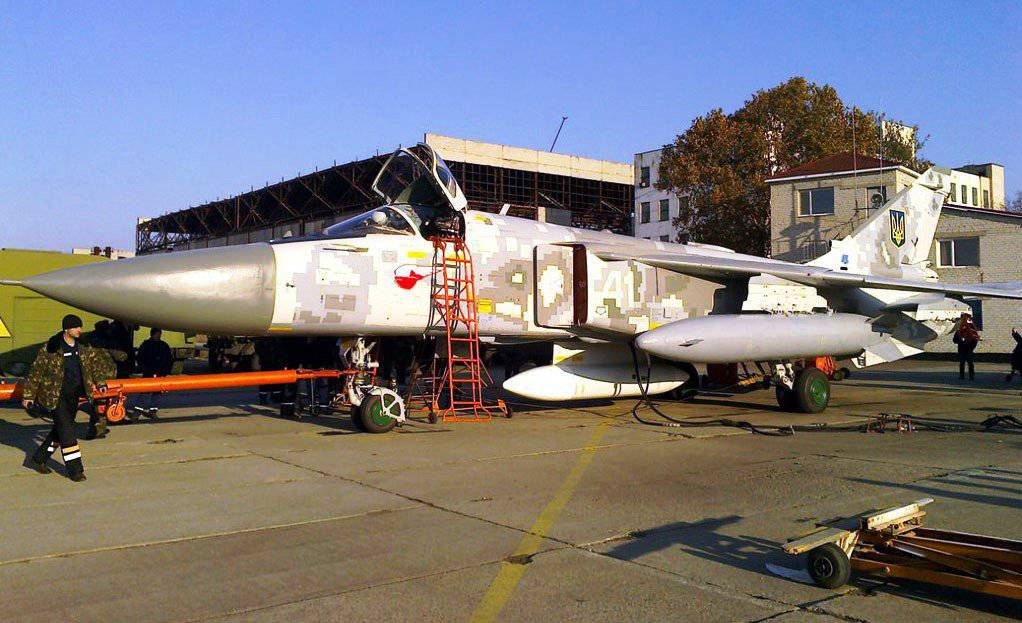airplane: (1, 141, 1022, 434)
